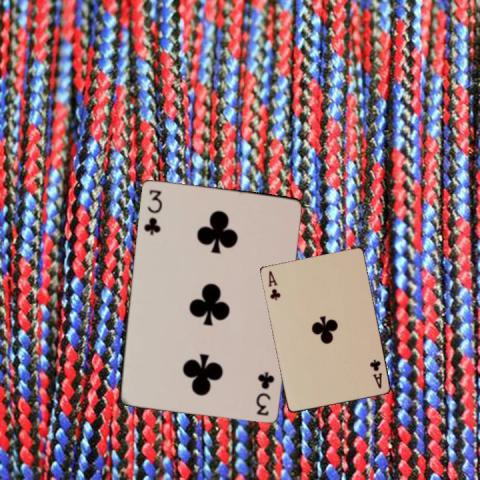3c: (253, 368, 276, 417), (141, 186, 163, 236)
Ac: (367, 356, 383, 390), (266, 268, 282, 301)
